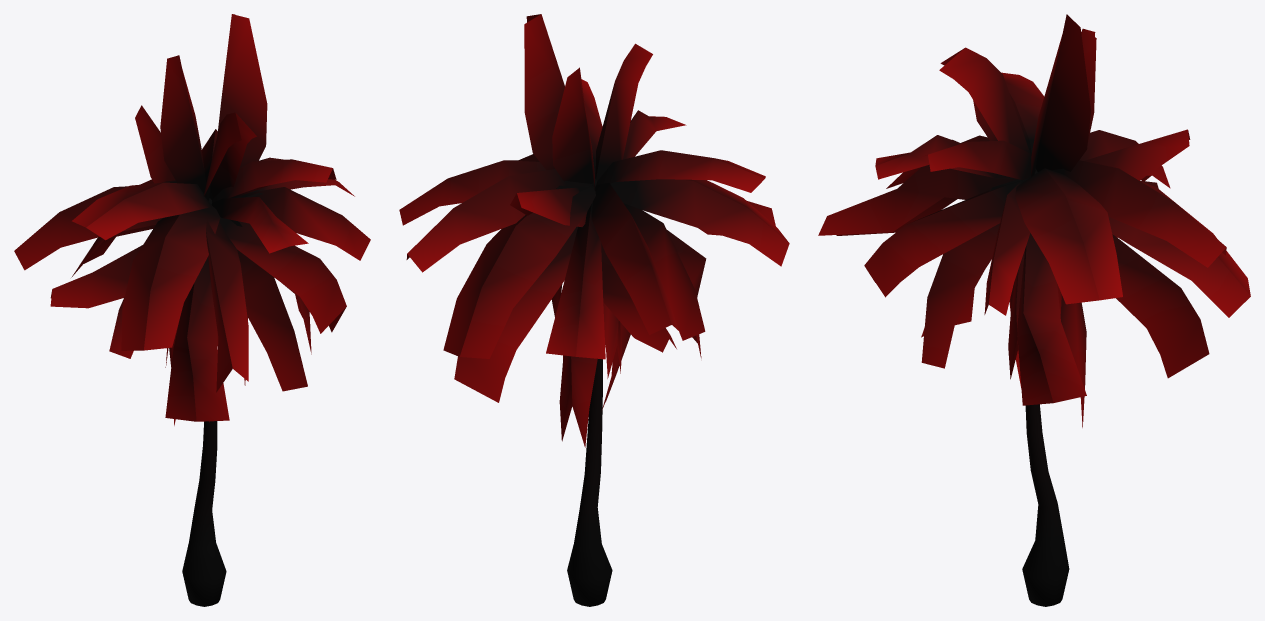
File: TAI_Palm_Tree_01A.fbx
3 views of the same model, side by side, from view 1: azimuth 30°, elevation 25°; view 2: azimuth 150°, elevation 25°; view 3: azimuth 270°, elevation 25° (orthographic). The views are drawn at different scales.
Parts seen in each view (by area): view 1: TAI_Palm_Tree_01A_LOD1; view 2: TAI_Palm_Tree_01A_LOD1; view 3: TAI_Palm_Tree_01A_LOD1.
Part boxes in pixels (x1,y1,x2,y2): TAI_Palm_Tree_01A_LOD1: [14, 14, 370, 606]; TAI_Palm_Tree_01A_LOD1: [399, 14, 789, 606]; TAI_Palm_Tree_01A_LOD1: [818, 14, 1250, 606].
Size of the model in its own units: 719 by 1294 by 829.
